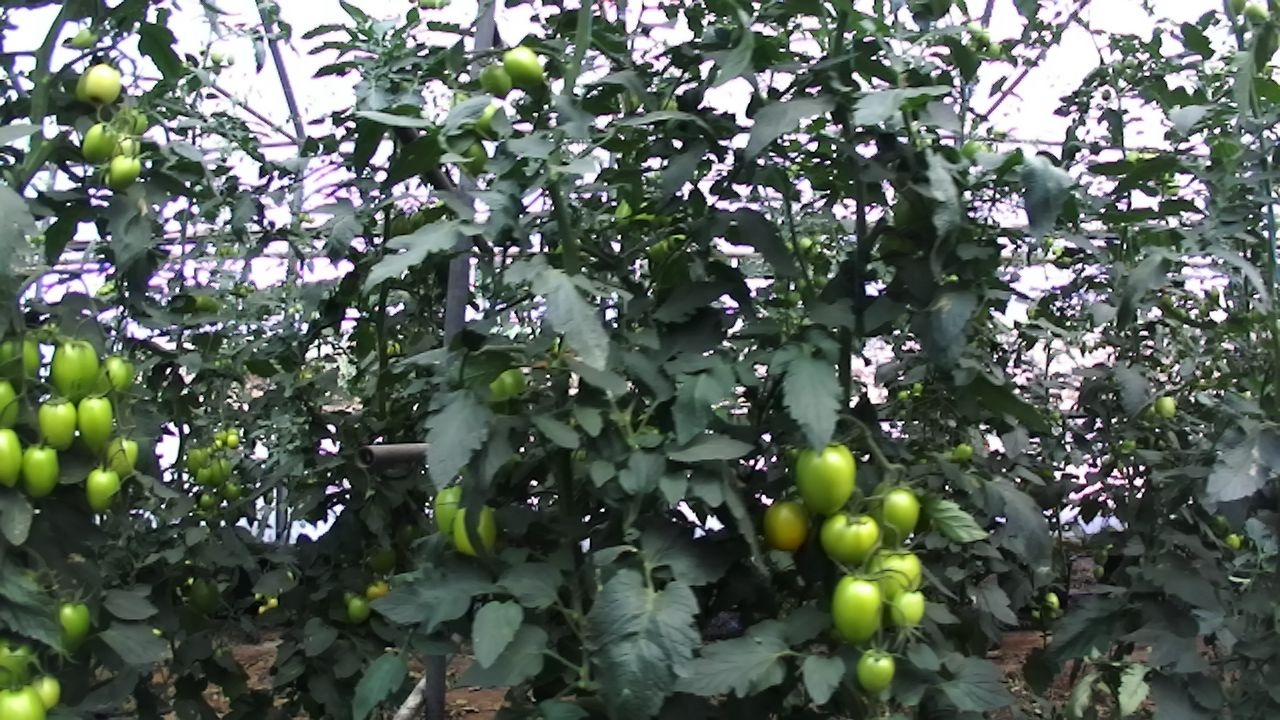tomato: (786, 435, 869, 522), (44, 332, 107, 422), (823, 567, 892, 649), (860, 474, 929, 555), (856, 536, 930, 609), (814, 501, 890, 571), (82, 342, 140, 418), (29, 391, 91, 459), (45, 592, 101, 665), (15, 434, 71, 506), (69, 387, 121, 464), (758, 493, 817, 555), (428, 478, 478, 551), (445, 497, 499, 564), (849, 642, 907, 698), (495, 41, 555, 93), (20, 662, 72, 718), (79, 461, 129, 518), (0, 421, 38, 496), (0, 666, 52, 720), (78, 58, 130, 110), (73, 116, 125, 167), (473, 56, 525, 103), (886, 580, 931, 634), (101, 148, 147, 198), (343, 590, 379, 629), (65, 23, 104, 55), (947, 433, 981, 469), (1148, 389, 1184, 422), (181, 443, 211, 480), (1038, 587, 1066, 617), (206, 456, 231, 488), (221, 476, 247, 506), (190, 462, 216, 489), (197, 488, 221, 513), (223, 429, 242, 452)
